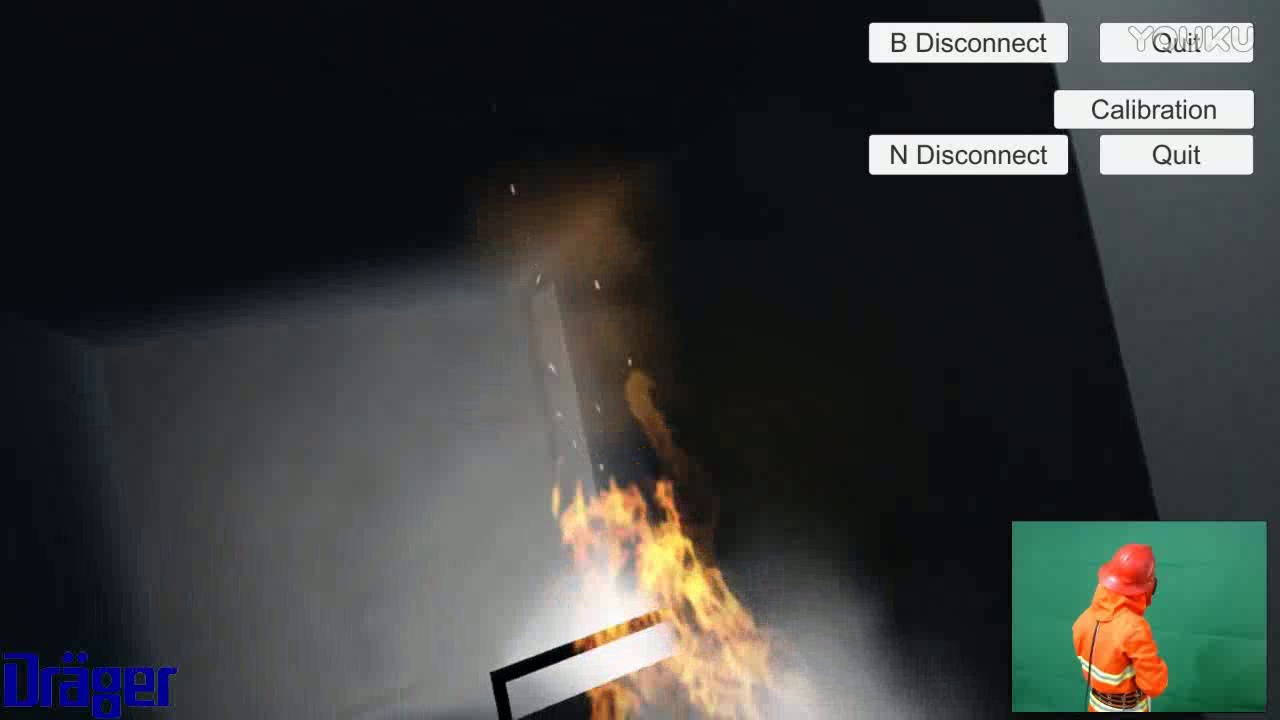fire: (535, 389, 770, 720)
